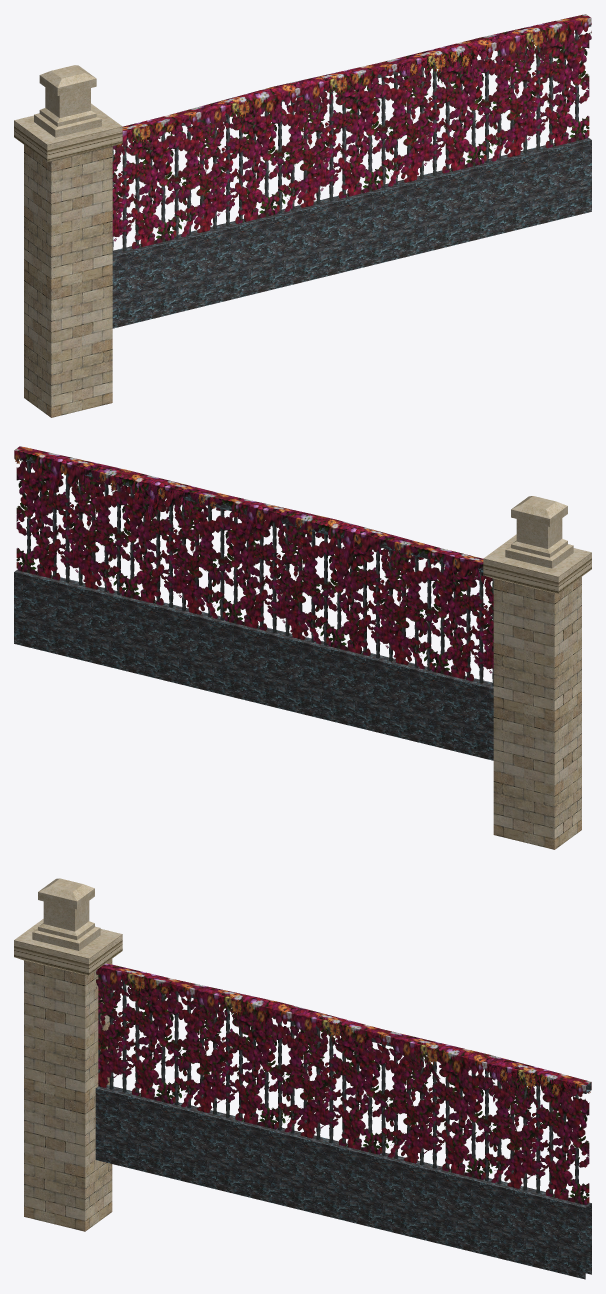
Rendered from thm_nboo_imprv_lattice_wall_long_s01_l0.fbx.
The picture shows the model from 3 angles, top to bottom: view 1: azimuth 30°, elevation 25°; view 2: azimuth 150°, elevation 25°; view 3: azimuth 330°, elevation 25°; orthographic projection.
Visible parts, largest first — view 1: mesh_node; view 2: mesh_node; view 3: mesh_node.
Boxes of the visible parts, left/top/right/bottom form: mesh_node: left=14, top=14, right=591, bottom=417; mesh_node: left=14, top=446, right=591, bottom=849; mesh_node: left=14, top=878, right=591, bottom=1279.
Bounding box in the file's own units: 9.11 × 5.14 × 0.9445.
